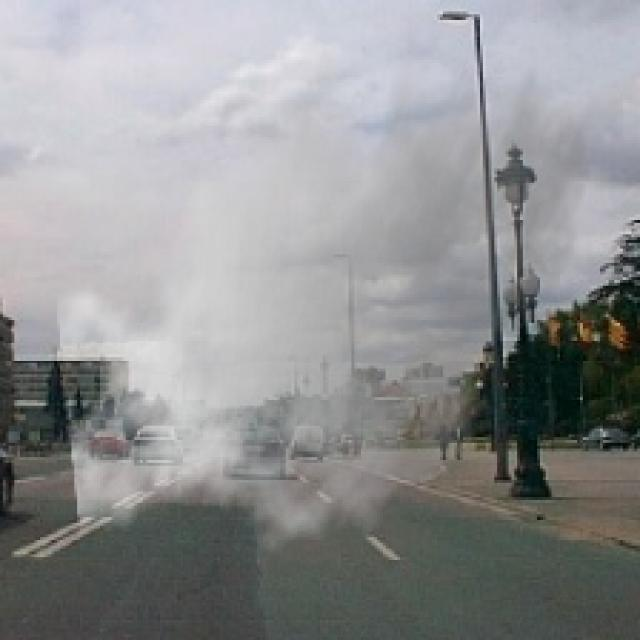Smoke: (55, 11, 594, 572)
